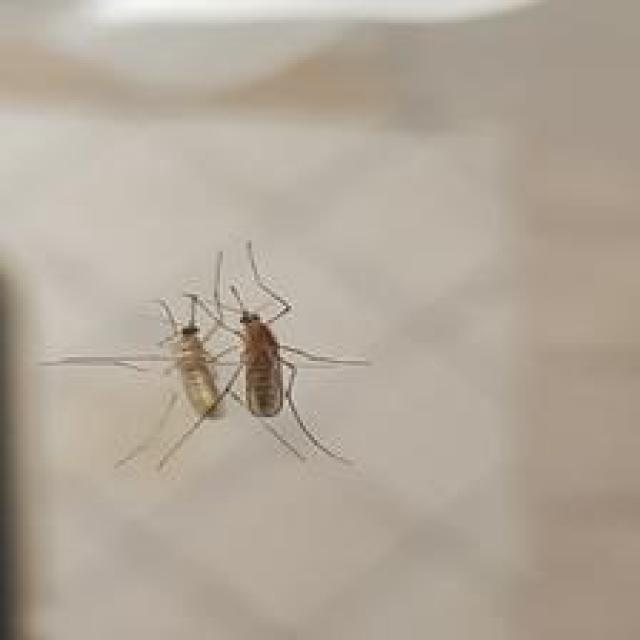Culex: (37, 238, 372, 476)
